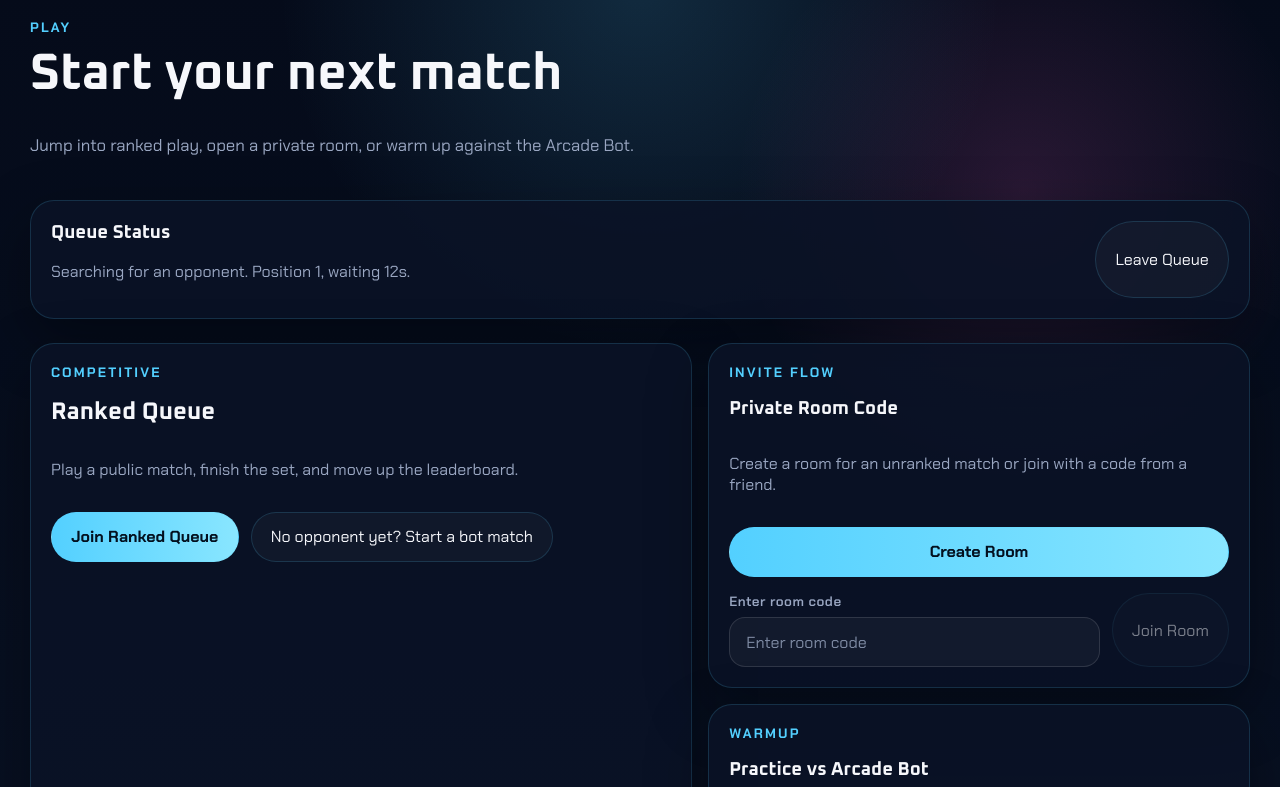
it: PlayPage › uses the same ack handling for the ranked queue practice offer
Click the button "No opponent yet? Start a bot match" at (402, 537), box [250,512,553,562]
(page scrolled)
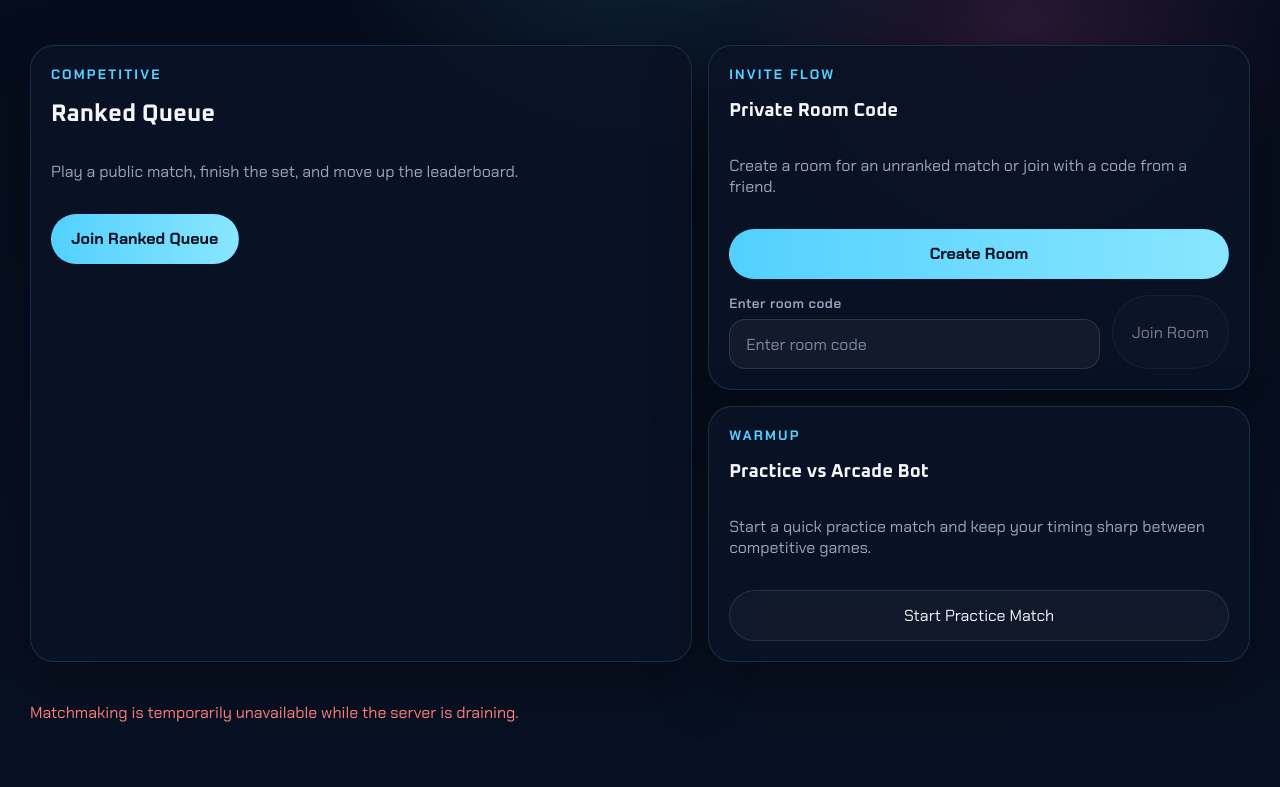
Now the text "Matchmaking is temporarily unavailable while the server is draining" is shown, box [30,702,519,723]
